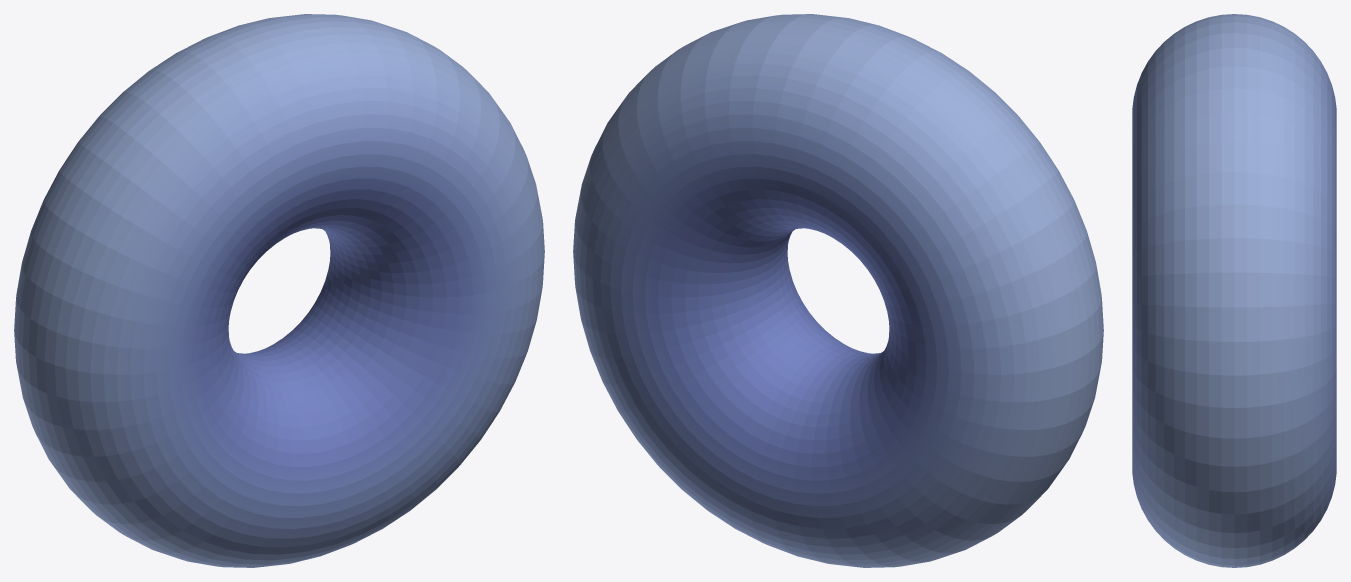
The picture shows the model from 3 angles, left to right: view 1: azimuth 30°, elevation 25°; view 2: azimuth 150°, elevation 25°; view 3: azimuth 270°, elevation 25°; orthographic projection. The views are drawn at different scales.
Parts seen in each view (by area): view 1: world; view 2: world; view 3: world.
Boxes of the visible parts, x1,y1,x2,y2 form: world: [14, 14, 544, 567]; world: [573, 14, 1103, 567]; world: [1132, 14, 1336, 567].
Size of the model in its own units: 16.93 by 16.9 by 6.25.
